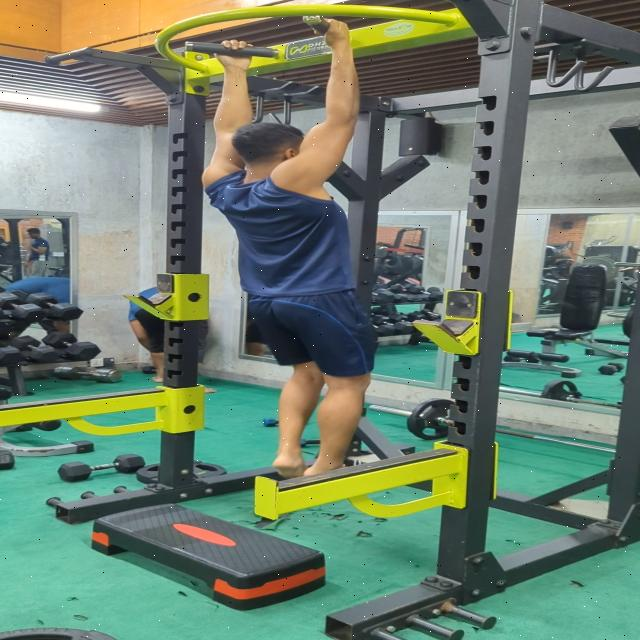Normal_PullUps: (197, 12, 382, 480)
